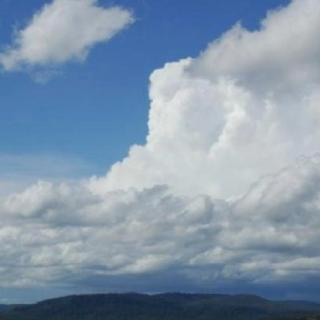Cumulonimbus: (0, 0, 320, 298)
